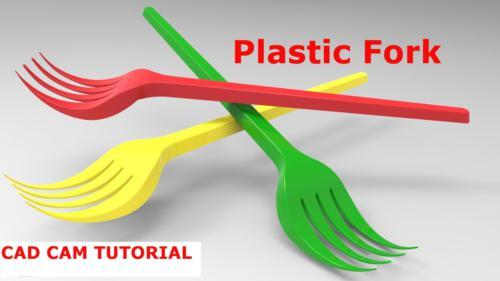Fork: (142, 6, 419, 272), (3, 71, 368, 223), (14, 50, 470, 123)
